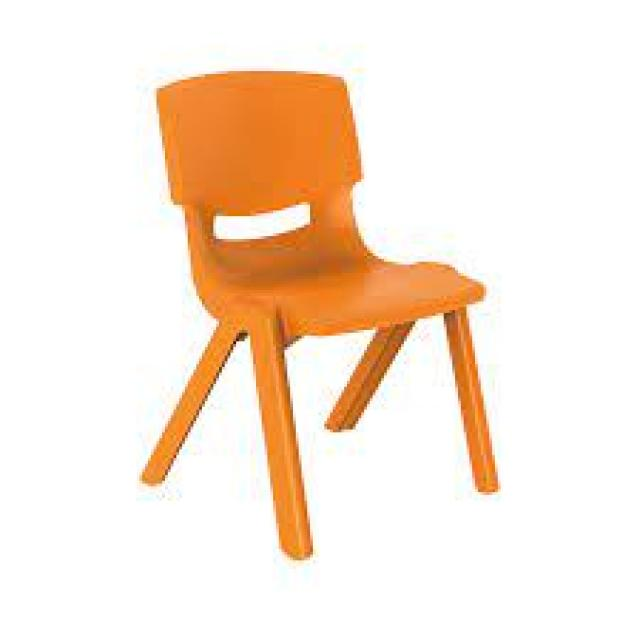chair: (116, 61, 518, 584)
